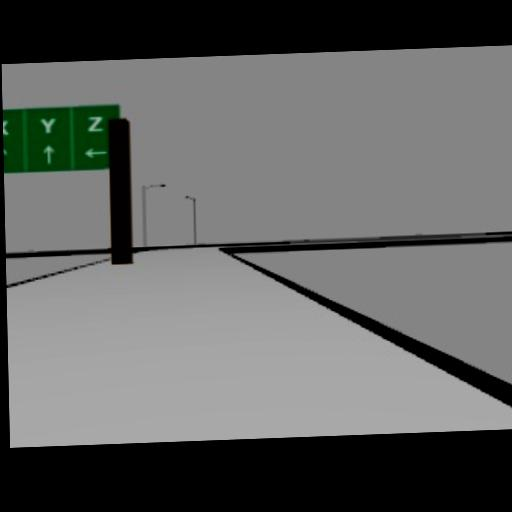Left: (83, 147, 108, 159)
Straight: (42, 144, 55, 163), (3, 145, 8, 164)
X: (3, 119, 8, 135)
Y: (40, 117, 56, 134)
Z: (86, 115, 104, 132)
